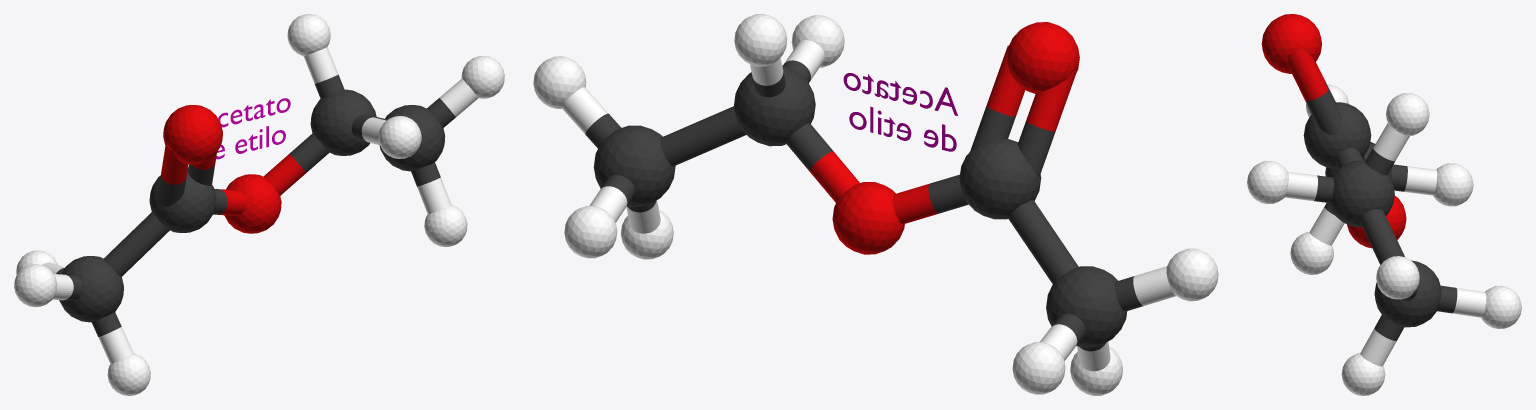
Rendered from acetato de etilo.glb.
The picture shows the model from 3 angles, left to right: view 1: azimuth 30°, elevation 25°; view 2: azimuth 150°, elevation 25°; view 3: azimuth 270°, elevation 25°; orthographic projection. The views are drawn at different scales.
Parts seen in each view (by area): view 1: Shape_IndexedFaceSet.035, Shape_IndexedFaceSet.019, Shape_IndexedFaceSet.047, Text; view 2: Shape_IndexedFaceSet.035, Shape_IndexedFaceSet.019, Shape_IndexedFaceSet.047, Text; view 3: Shape_IndexedFaceSet.019, Shape_IndexedFaceSet.035, Shape_IndexedFaceSet.047.
Part boxes in pixels (x1,y1,x2,y2): Shape_IndexedFaceSet.035: (56, 74, 455, 336); Shape_IndexedFaceSet.019: (14, 14, 504, 395); Shape_IndexedFaceSet.047: (161, 105, 305, 233); Text: (216, 98, 290, 159); Shape_IndexedFaceSet.035: (585, 60, 1143, 351); Shape_IndexedFaceSet.019: (533, 14, 1218, 395); Shape_IndexedFaceSet.047: (809, 22, 1079, 254); Text: (843, 73, 957, 151); Shape_IndexedFaceSet.019: (1247, 84, 1521, 395); Shape_IndexedFaceSet.035: (1303, 81, 1457, 340); Shape_IndexedFaceSet.047: (1261, 14, 1406, 248).
Bounding box in the file's own units: 69.87 × 36.99 × 31.78.
